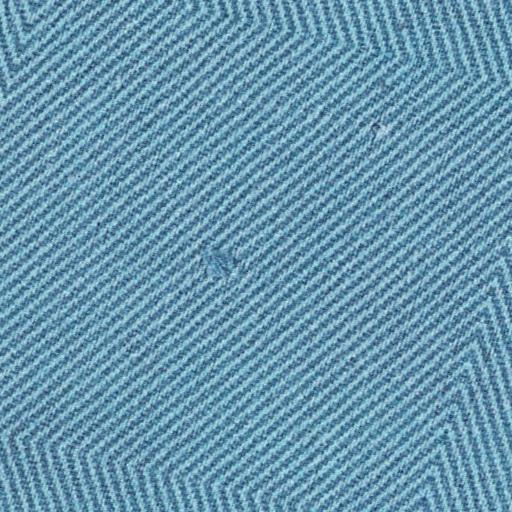knot: (188, 233, 256, 290)
